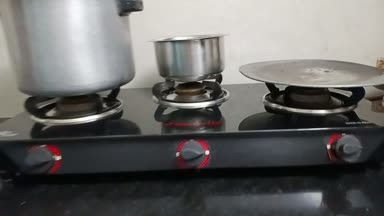flame_gas_off: (18, 94, 125, 177), (274, 84, 380, 167), (157, 78, 226, 167)
